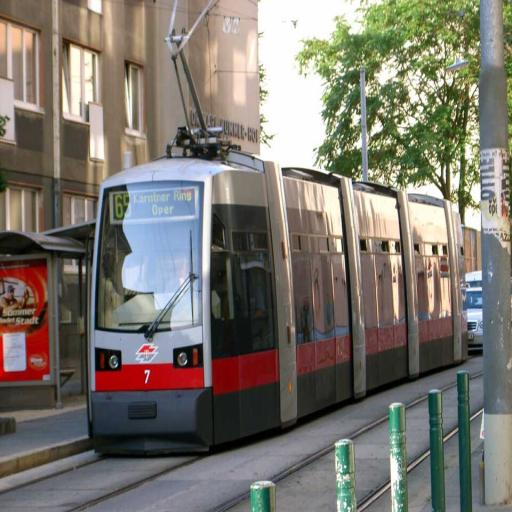ULF: (86, 140, 468, 452)
